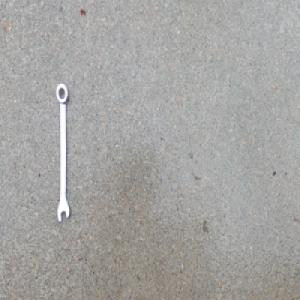Wrench: (55, 83, 71, 225)
